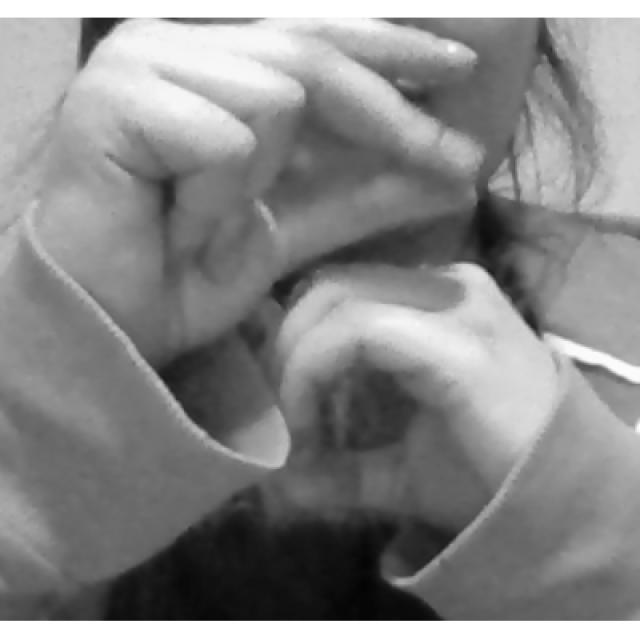O--: (39, 19, 556, 527)
